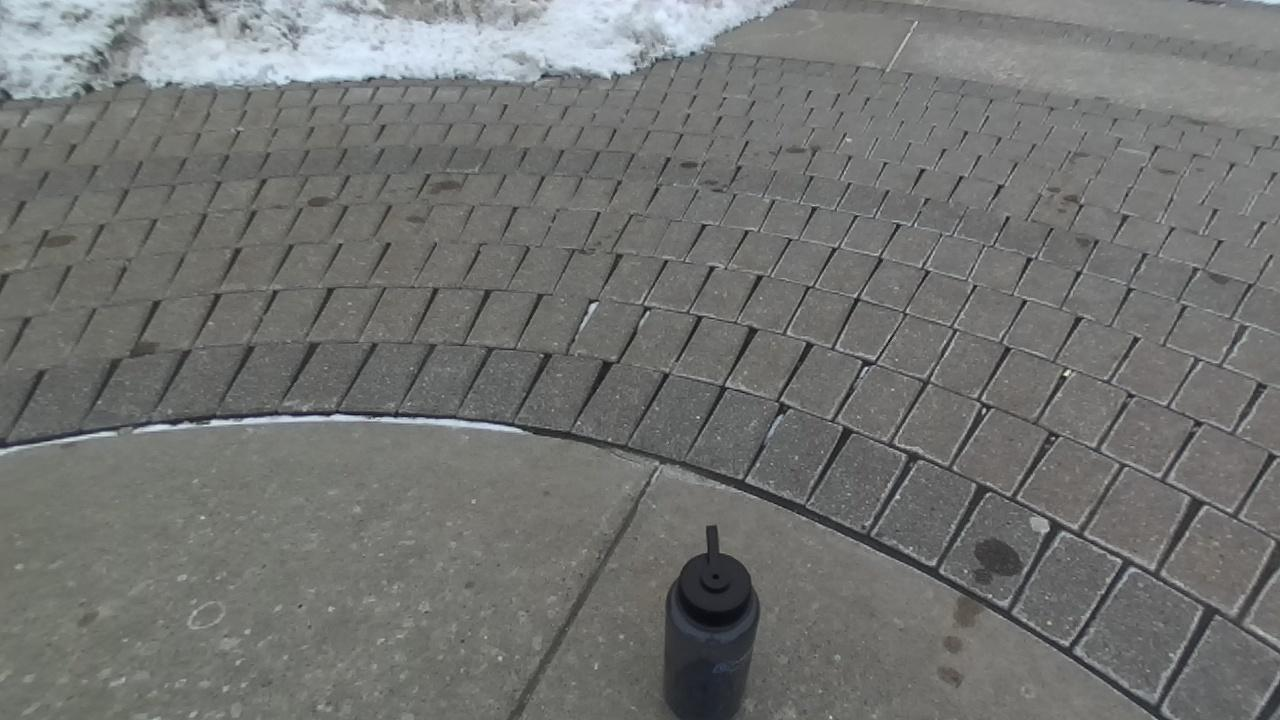bottle: (663, 526, 760, 719)
